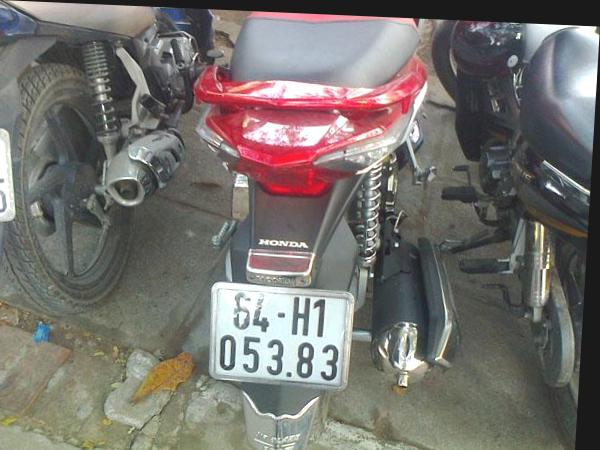License_Plate: (211, 285, 354, 388)
